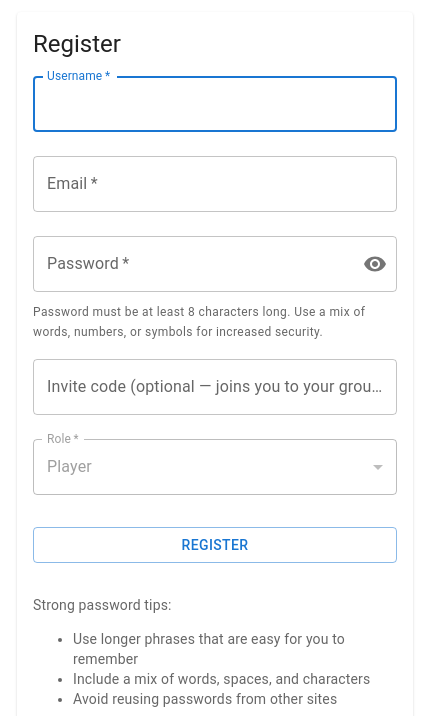
Test: Register › open mode › rejects the invite code ABC (not exactly 8 alphanumeric characters)
This screenshot has width=431, height=716.
In the field labelled "Username *": (215, 104) x1=33 y1=76 x2=397 y2=132, type "newplayer"
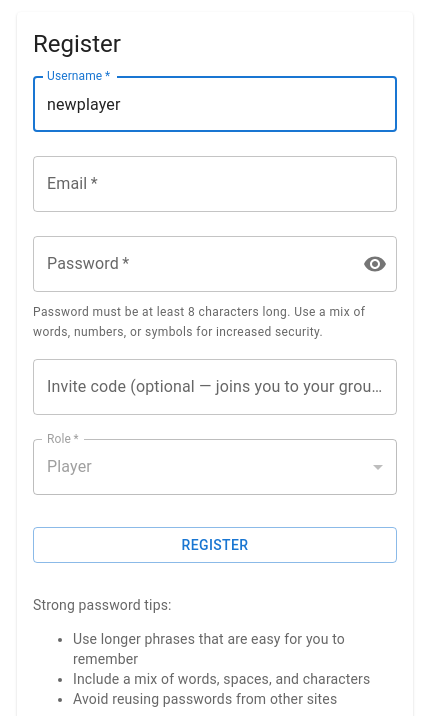
In the field labelled "Email *": (215, 184) x1=33 y1=156 x2=397 y2=212, type "player@example.com"
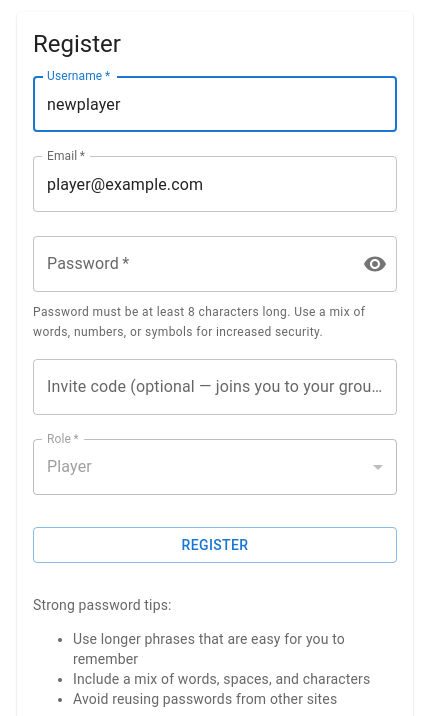
In the password field labelled "Password *": (190, 264) x1=33 y1=236 x2=347 y2=292, type "longenoughpassword"
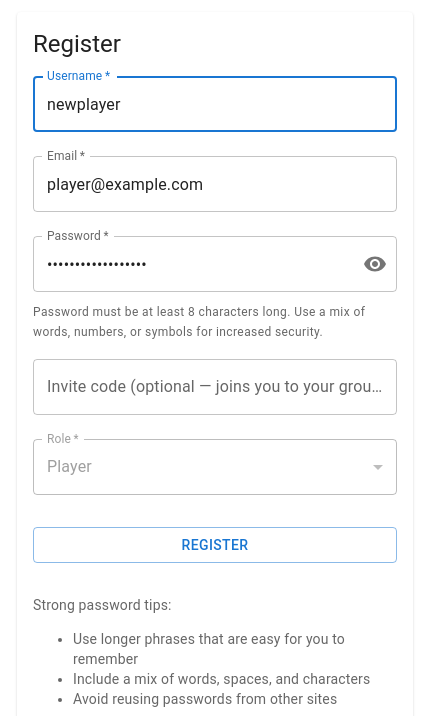
In the field labelled "Invite code (optional — joins you to your group's campaign)": (215, 387) x1=33 y1=359 x2=397 y2=415, type "ABC"
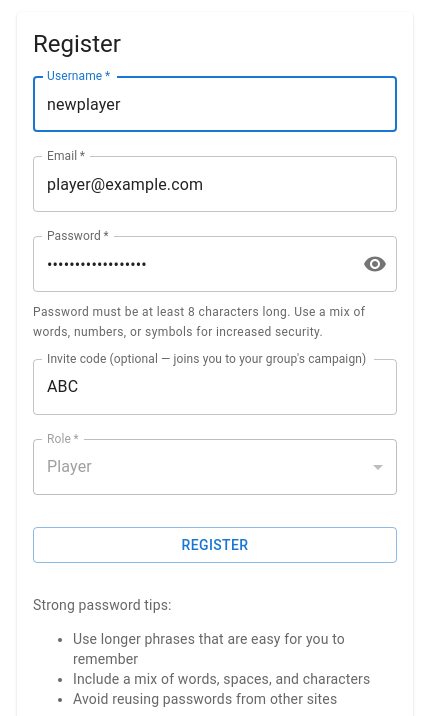
Click the button "Register": (215, 545) x1=33 y1=527 x2=397 y2=563
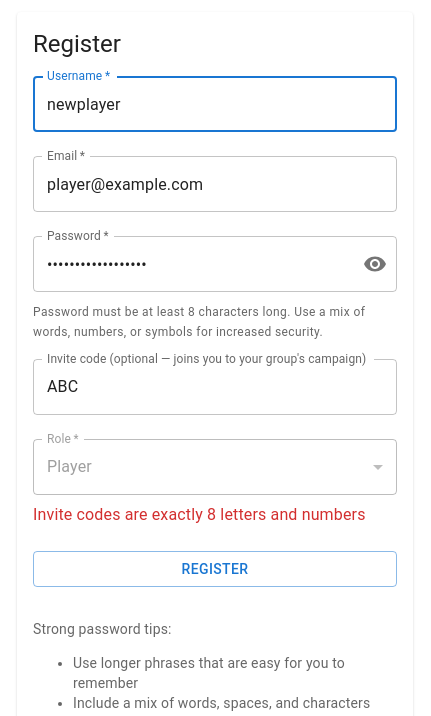
Now the text "Invite codes are exactly 8 letters and numbers" is shown, box x1=33 y1=503 x2=397 y2=527
